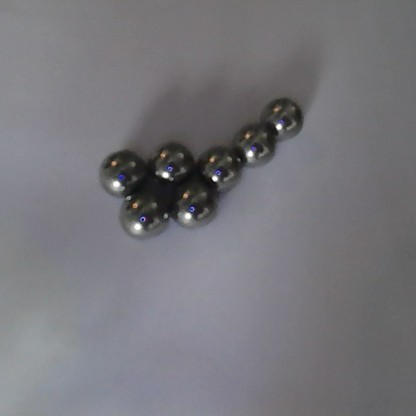ironball: (118, 185, 172, 240), (97, 145, 151, 195), (194, 145, 245, 197), (169, 176, 217, 231), (257, 96, 304, 143), (231, 123, 279, 168), (149, 142, 195, 182)
